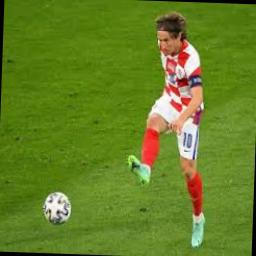football: (42, 192, 72, 226)
